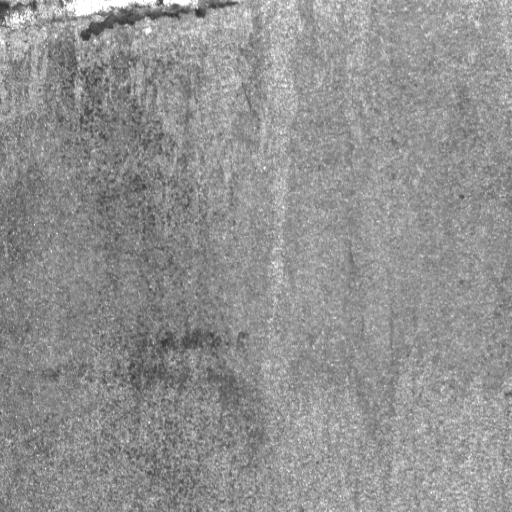aokeng: (74, 1, 233, 46)
